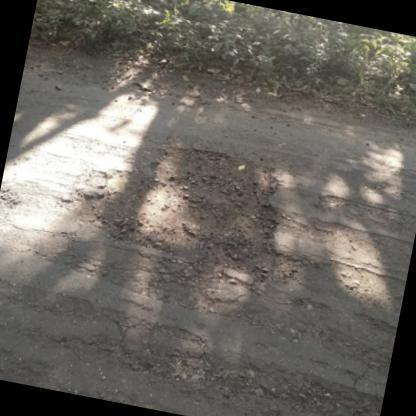pothole: (74, 143, 278, 279), (193, 348, 382, 416)
